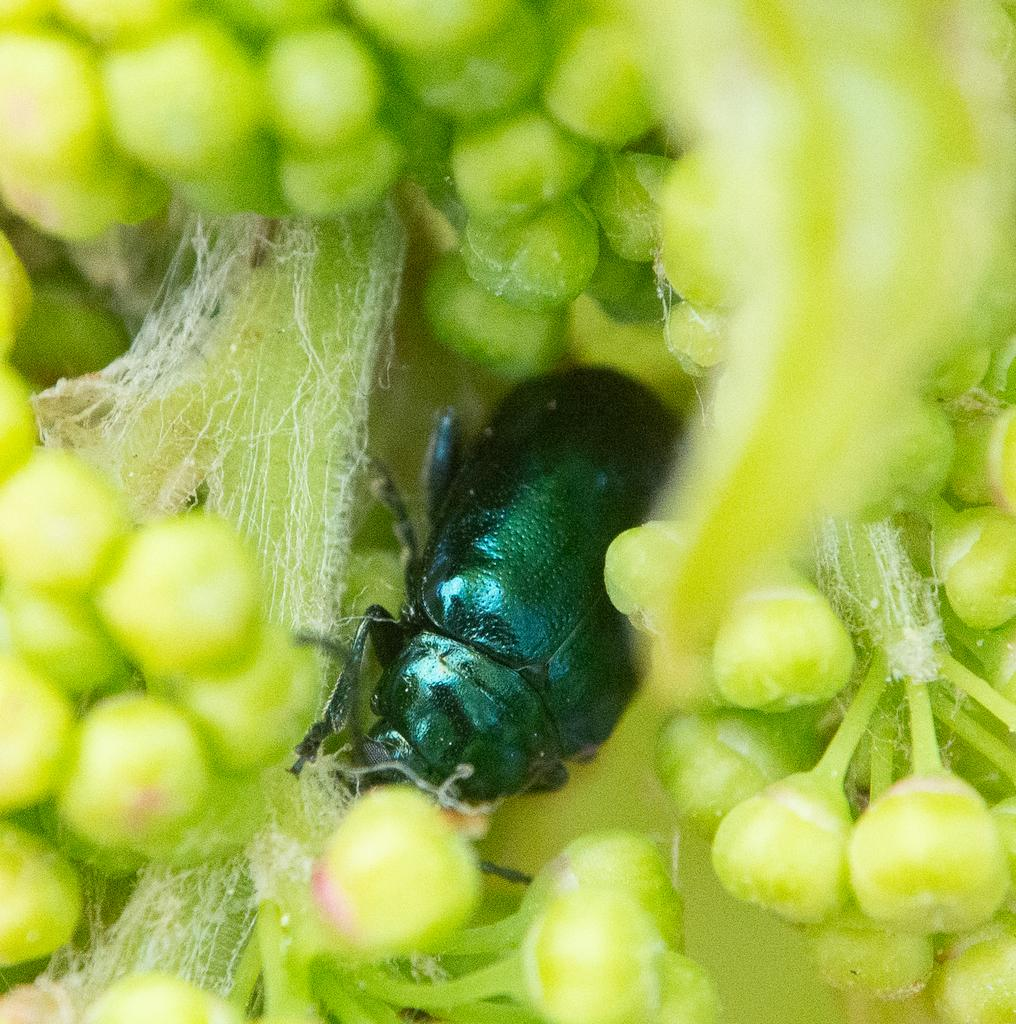flea_beetle: (262, 292, 769, 885)
